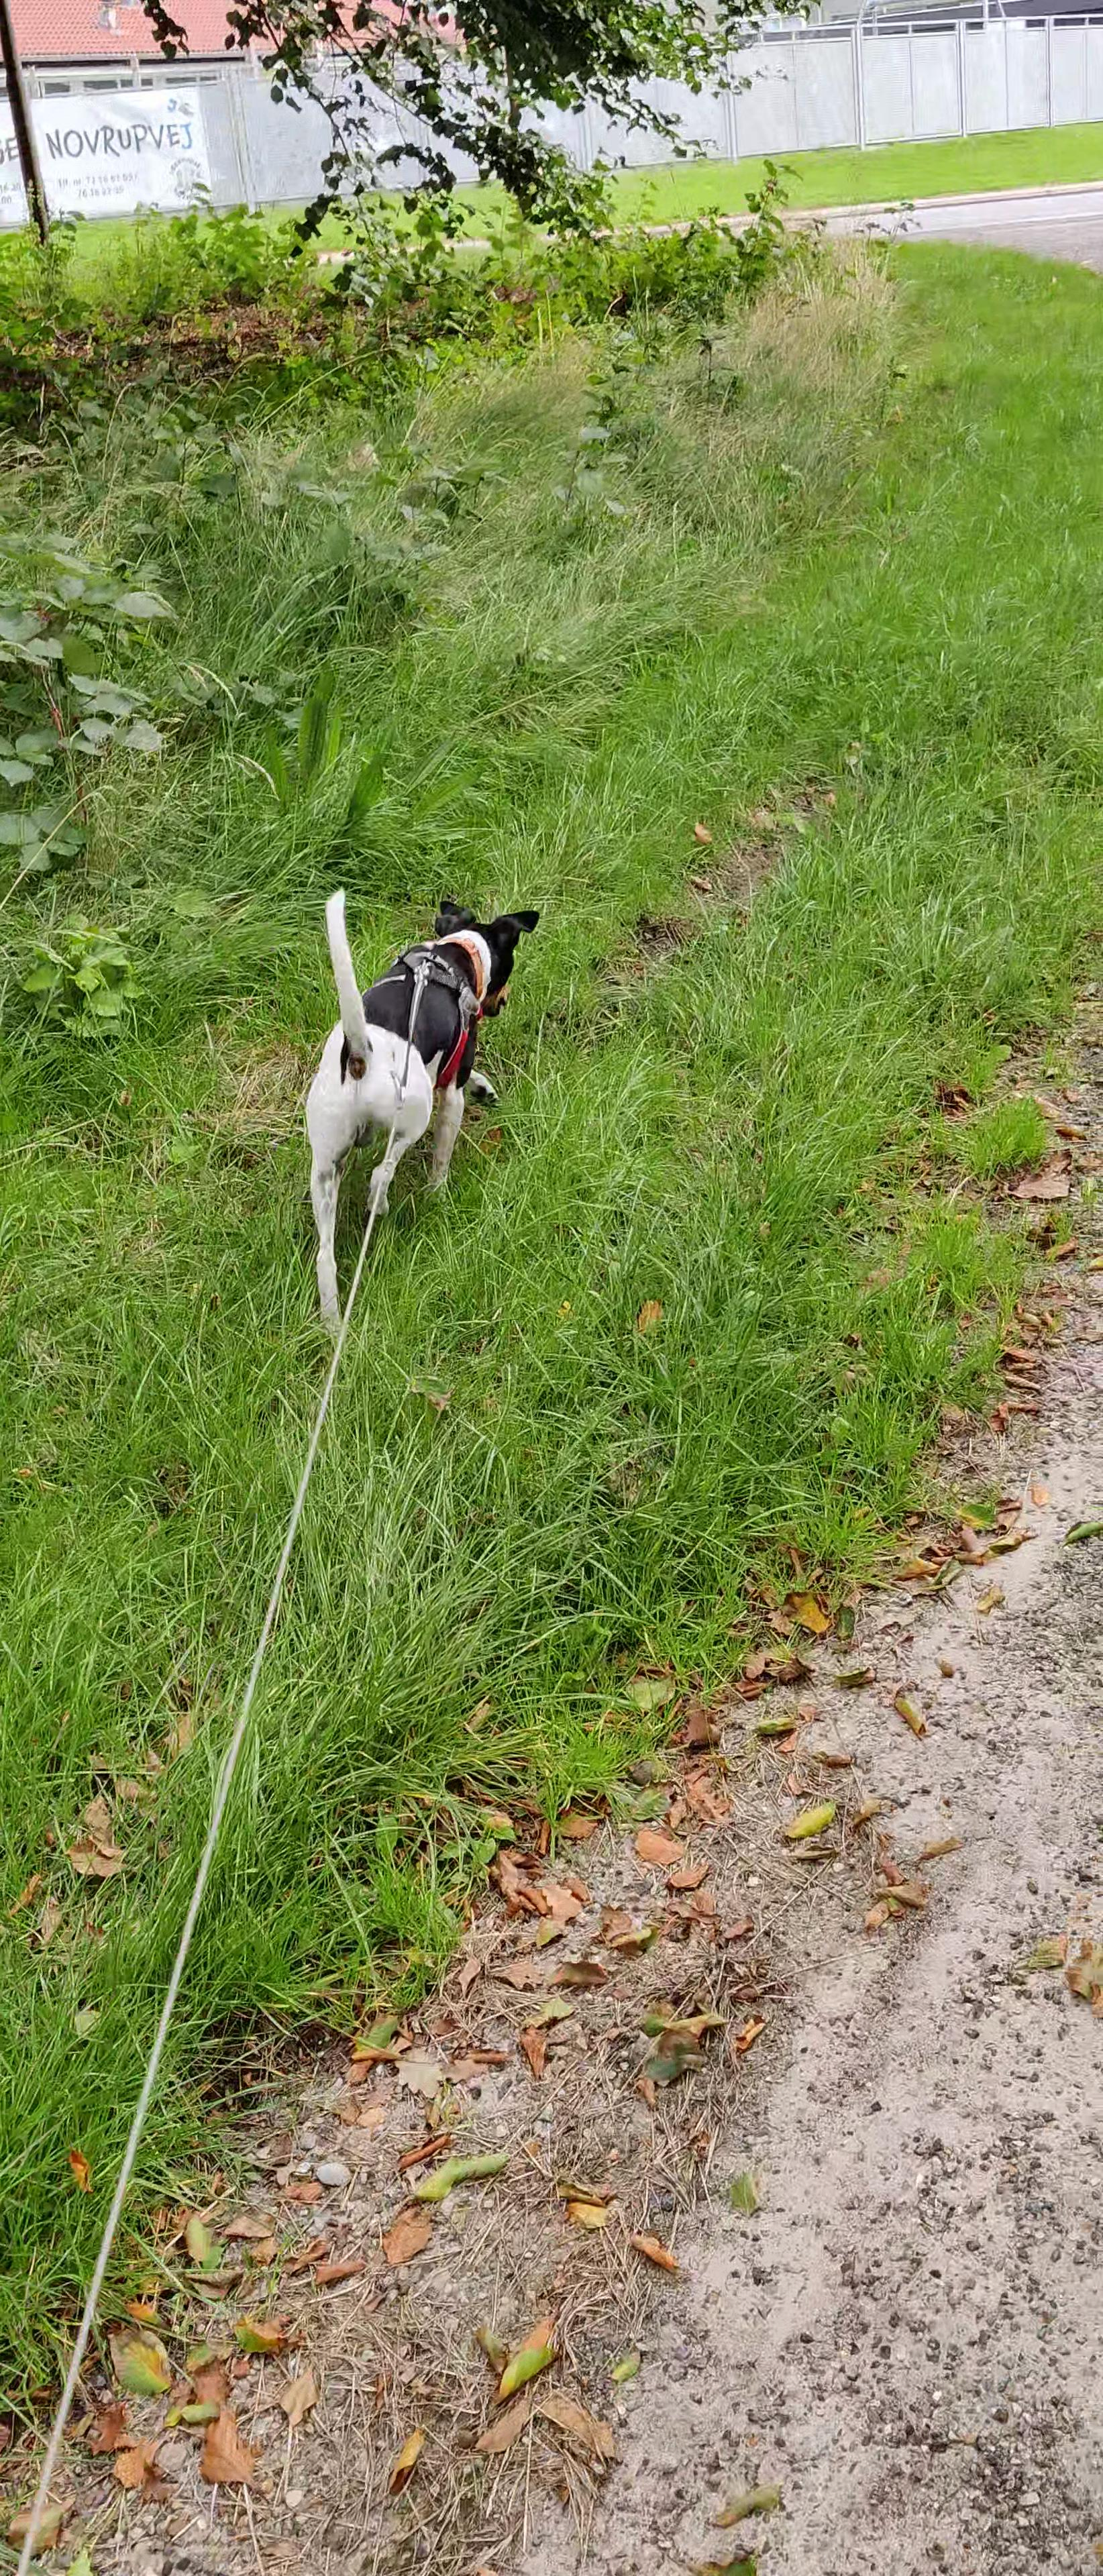Dog: (294, 884, 556, 1345)
